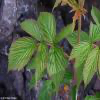Raspberry leaf: (67, 40, 91, 90), (6, 37, 37, 74), (47, 43, 68, 97), (81, 47, 100, 91), (32, 41, 48, 87), (19, 19, 45, 42), (39, 10, 56, 43), (54, 23, 73, 43), (90, 21, 99, 43)
